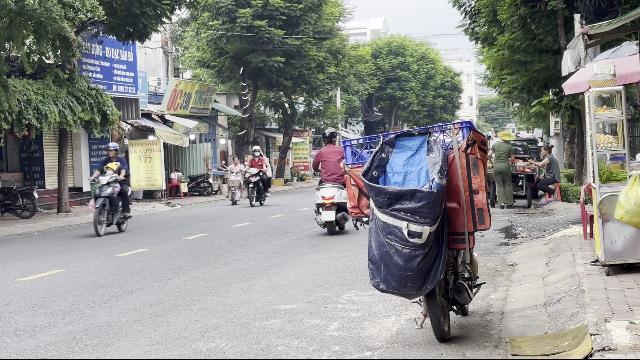helmet: (106, 142, 120, 158)
motorcyclist: (87, 140, 133, 236)
